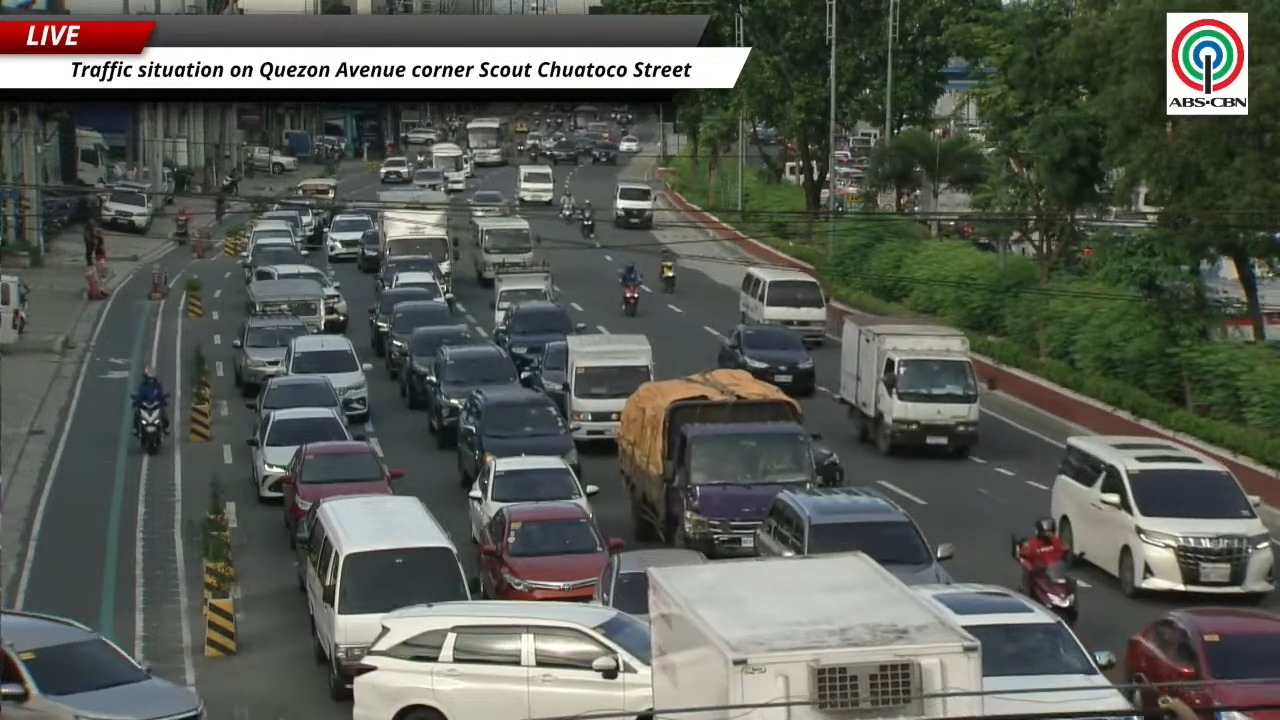bus: (465, 118, 510, 165), (429, 142, 468, 191), (573, 105, 600, 130)
car: (1050, 436, 1275, 596), (351, 601, 651, 719), (913, 584, 1134, 717), (0, 609, 203, 719), (753, 488, 952, 583), (1122, 607, 1279, 716), (479, 502, 623, 600), (455, 384, 581, 489), (282, 441, 403, 543), (468, 456, 598, 540), (247, 407, 352, 499), (426, 343, 517, 448), (594, 548, 708, 618), (282, 335, 371, 421), (717, 324, 815, 395), (399, 324, 480, 408), (253, 264, 348, 332), (494, 300, 585, 369), (232, 316, 309, 396), (384, 300, 456, 379), (369, 288, 436, 356), (246, 375, 340, 417), (522, 340, 568, 416), (242, 240, 305, 284), (375, 255, 442, 294), (273, 197, 325, 244), (324, 213, 375, 260), (100, 188, 153, 233), (259, 208, 309, 244), (247, 218, 302, 249), (390, 271, 444, 299), (812, 442, 844, 486), (356, 228, 381, 273), (468, 190, 509, 216), (379, 156, 412, 183), (543, 140, 579, 164), (570, 135, 603, 156), (412, 169, 445, 189), (592, 140, 619, 164), (405, 127, 438, 145), (618, 135, 640, 153)
motorcycle: (1022, 553, 1082, 625), (135, 399, 163, 454), (622, 283, 640, 317), (174, 208, 189, 243), (660, 261, 675, 293), (579, 214, 594, 238), (221, 174, 238, 194), (560, 205, 574, 222), (516, 142, 526, 155), (417, 152, 426, 166)
truck: (648, 552, 983, 719), (617, 370, 815, 556), (838, 318, 979, 456), (562, 334, 652, 442), (378, 209, 459, 290), (490, 262, 554, 326), (75, 127, 115, 187), (244, 146, 297, 174)
